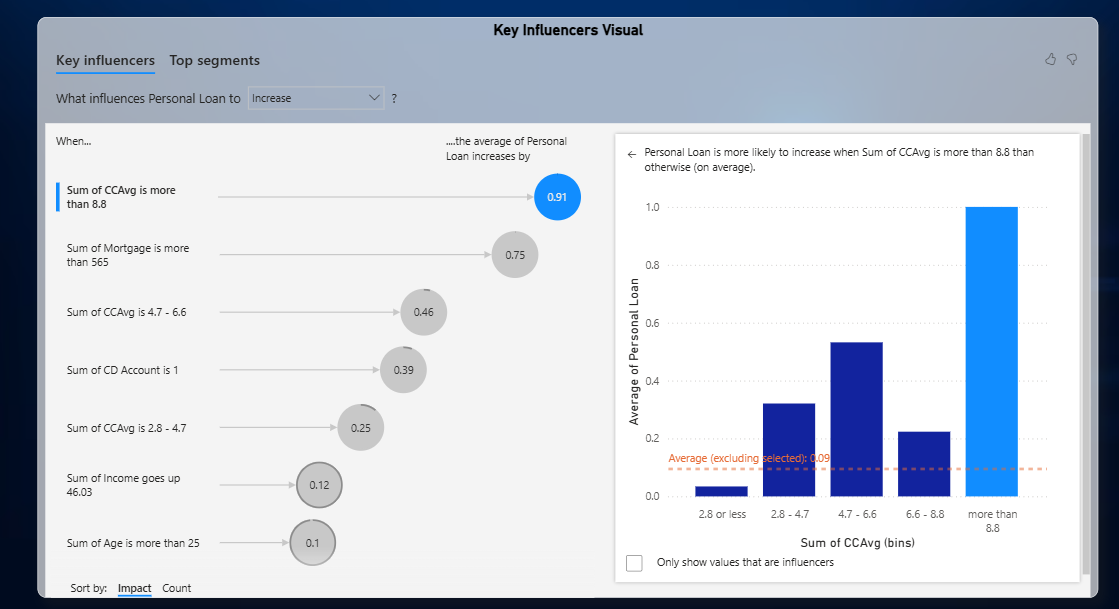

What the dashboard file says about the page in this screenshot:
{"tool":"powerbi","page":{"name":"Page 5","canvas":[1280,720],"ordinal":4},"visuals":[{"type":"keyDriversVisual","title":"Key Influencers Visual","fields":{"Target":["Data.Personal Loan"],"ExplainBy":["Sum(Data.Age)","Sum(Data.Income)","Sum(Data.Mortgage)","Sum(Data.CCAvg)","Sum(Data.CD Account)","Sum(Data.Education)","Sum(Data.CreditCard)","Sum(Data.Family)","Sum(Data.Online)"]},"box":[51.7,36.7,1178.3,645],"z":0}]}

Visuals, with their boxes on the page's 1280x720 design canvas (x1, y1, x2, y2). These are canvas units, not pixel positions in the 1119x609 screenshot, which may show the page scaled, cropped or inside an application window:
"Key Influencers Visual" keyDriversVisual: 52 37 1230 682
